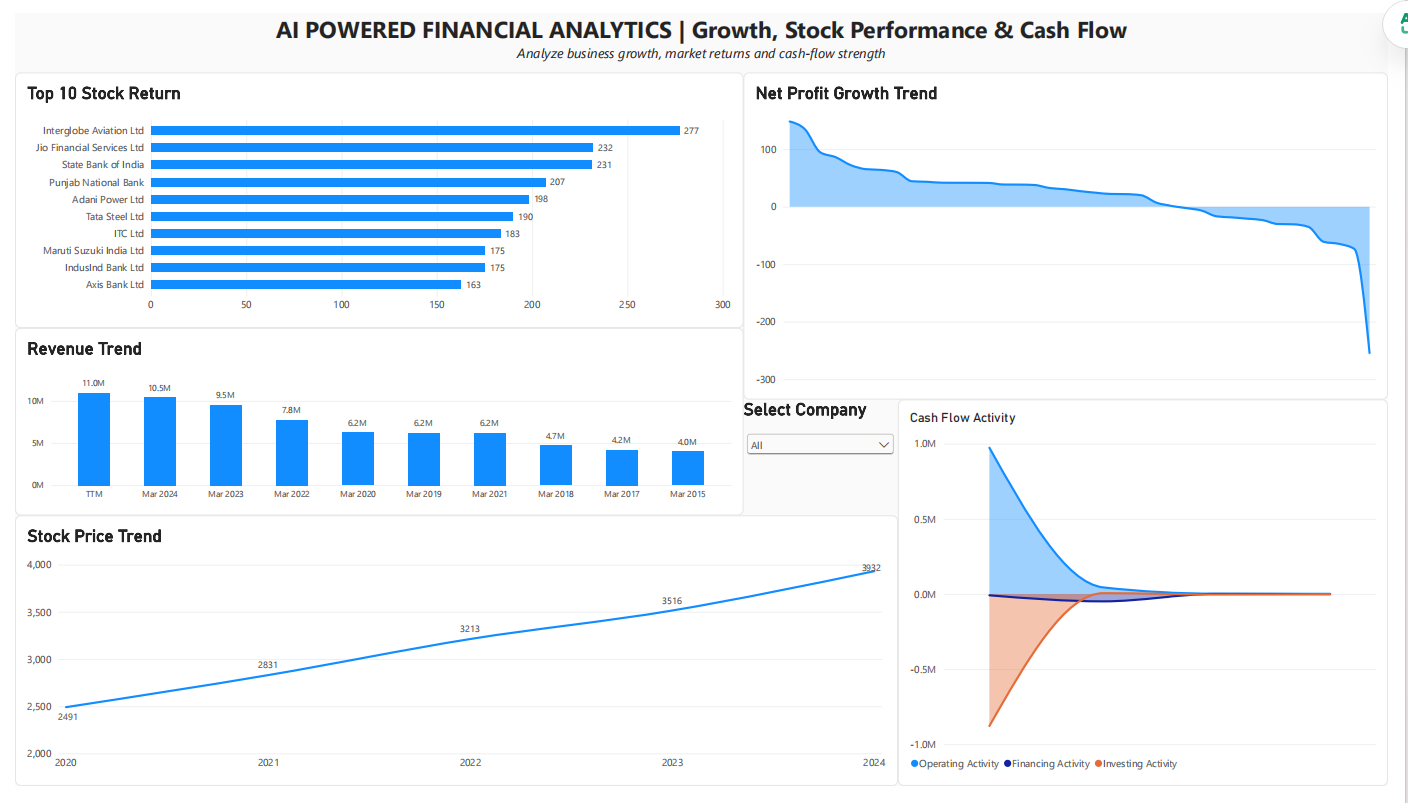

What the dashboard file says about the page in this screenshot:
{"tool":"powerbi","page":{"name":"Growth, Stock Performance & Cash Flow","canvas":[1920,1080],"ordinal":4},"visuals":[{"type":"textbox","box":[0,0,1920,84],"z":0},{"type":"slicer","title":"Select Company","fields":{"Values":["financial_analytics company_master_profile.company_name"]},"box":[1018.3,540,215,161.7],"z":1000},{"type":"lineChart","title":"Stock Price Trend","fields":{"Category":["financial_analytics stock_prices.date.Variation.Date Hierarchy.Year","financial_analytics stock_prices.date.Variation.Date Hierarchy.Quarter","financial_analytics stock_prices.date.Variation.Date Hierarchy.Month","financial_analytics stock_prices.date.Variation.Date Hierarchy.Day"],"Y":["Avg(financial_analytics stock_prices.close_price)"]},"box":[0,702,1234,378],"z":2000},{"type":"clusteredColumnChart","title":"Revenue Trend","fields":{"Category":["financial_analytics company_growth.year"],"Y":["Sum(financial_analytics company_growth.sales)"]},"box":[0,440,1018.3,261.7],"z":3000},{"type":"areaChart","title":"Net Profit Growth Trend","fields":{"Y":["Avg(financial_analytics company_growth.net_profit_growth_pct)"],"Category":["financial_analytics company_growth.year"]},"box":[1018.3,83.3,901.7,456.7],"z":4000},{"type":"areaChart","title":"Cash Flow Activity","fields":{"Category":["financial_analytics company_cashflow.year"],"Y":["Sum(financial_analytics company_cashflow.operating_activity)","Sum(financial_analytics company_cashflow.financing_activity)","Sum(financial_analytics company_cashflow.investing_activity)"]},"box":[1234,540,686,540],"z":5000},{"type":"barChart","title":"Top 10 Stock Return","fields":{"Category":["financial_analytics company_investment_overview.company_name"],"Y":["Sum(financial_analytics company_investment_overview.return_pct)"]},"box":[0,83.3,1018.3,356.7],"z":6000}]}

Visuals, with their boxes in screenshot pixels (x1, y1, x2, y2), scaled from the page's 1920x1080 canvas onto the 1408x803 screenshot:
textbox: [left=0, top=0, right=1407, bottom=62]
"Select Company" slicer: [left=747, top=402, right=904, bottom=522]
"Stock Price Trend" lineChart: [left=0, top=522, right=905, bottom=802]
"Revenue Trend" clusteredColumnChart: [left=0, top=327, right=747, bottom=522]
"Net Profit Growth Trend" areaChart: [left=747, top=62, right=1407, bottom=402]
"Cash Flow Activity" areaChart: [left=905, top=402, right=1407, bottom=802]
"Top 10 Stock Return" barChart: [left=0, top=62, right=747, bottom=327]
